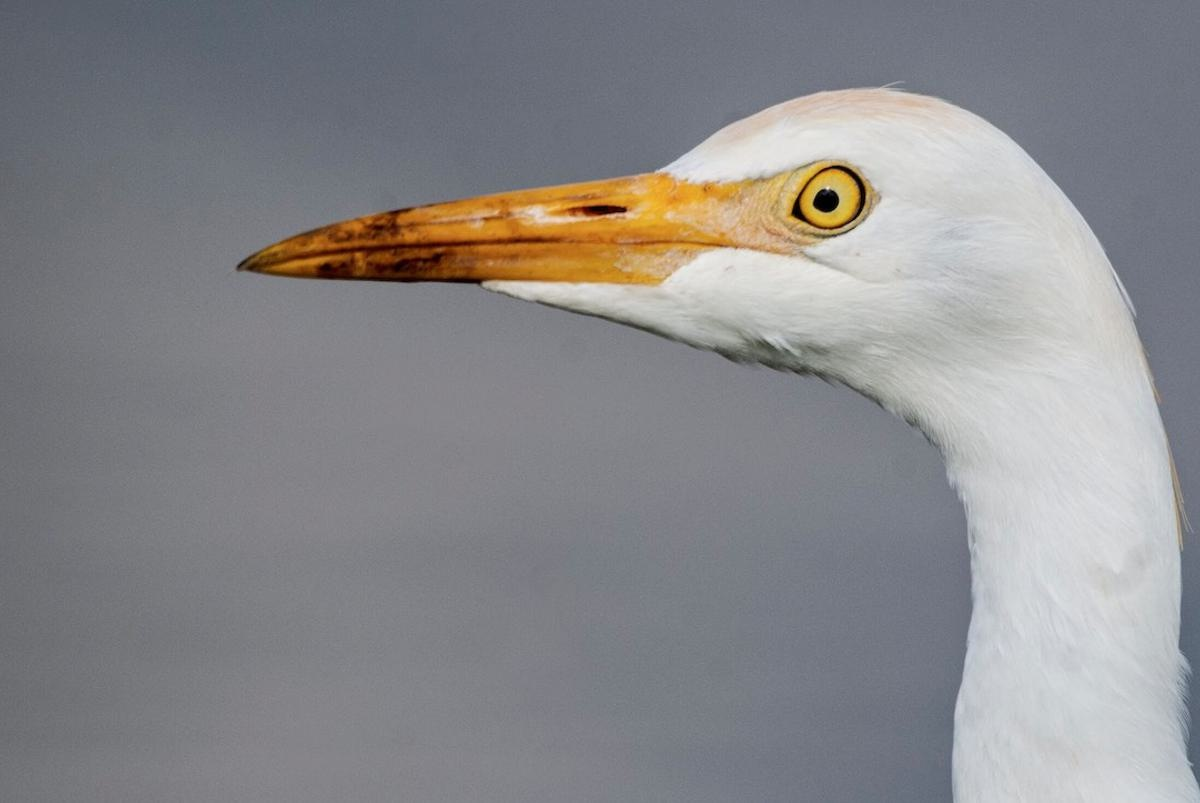egret: (214, 63, 1200, 803)
